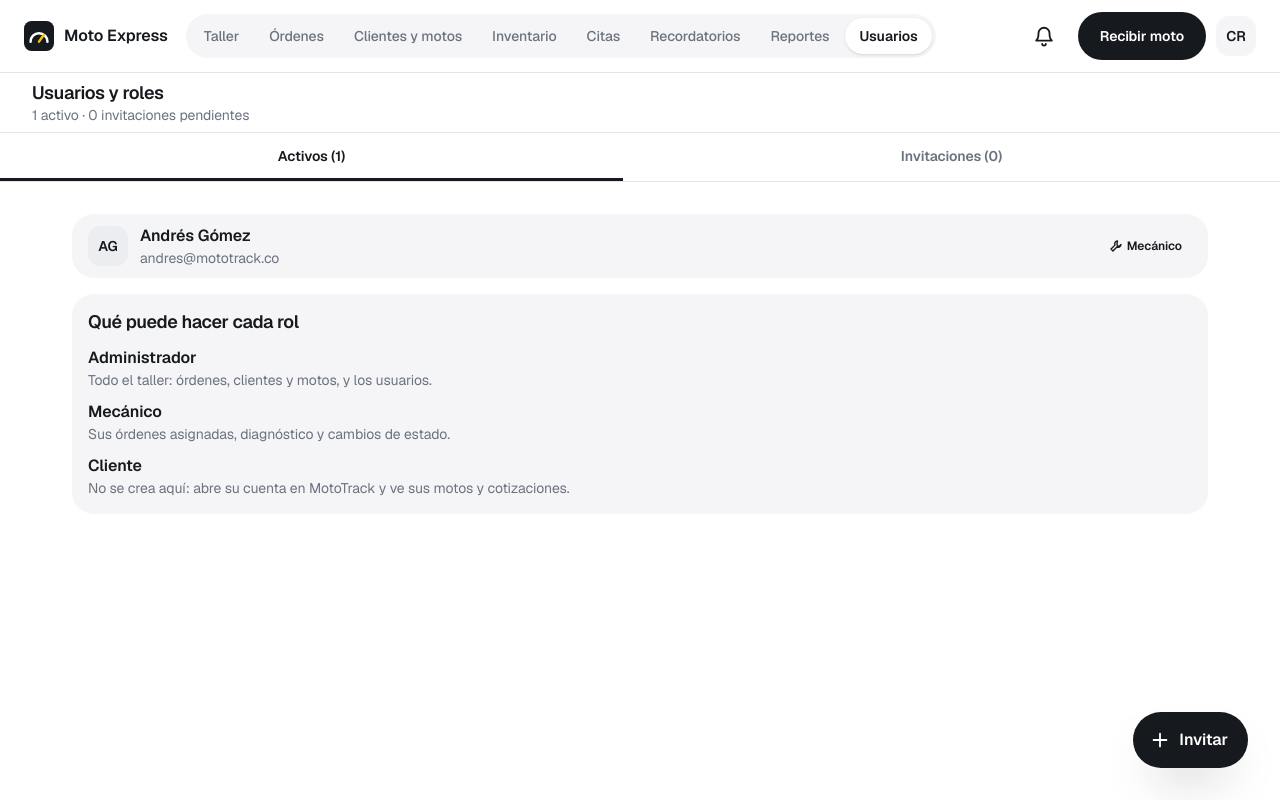
Test: HU-86 · Restablecer la contraseña de un mecánico › confirma, muestra la clave temporal y el enlace de WhatsApp con el mensaje
This screenshot has width=1280, height=800.
Click the button with aria-label "Opciones de Andrés Gómez": (108, 246) [72,214,1208,278]
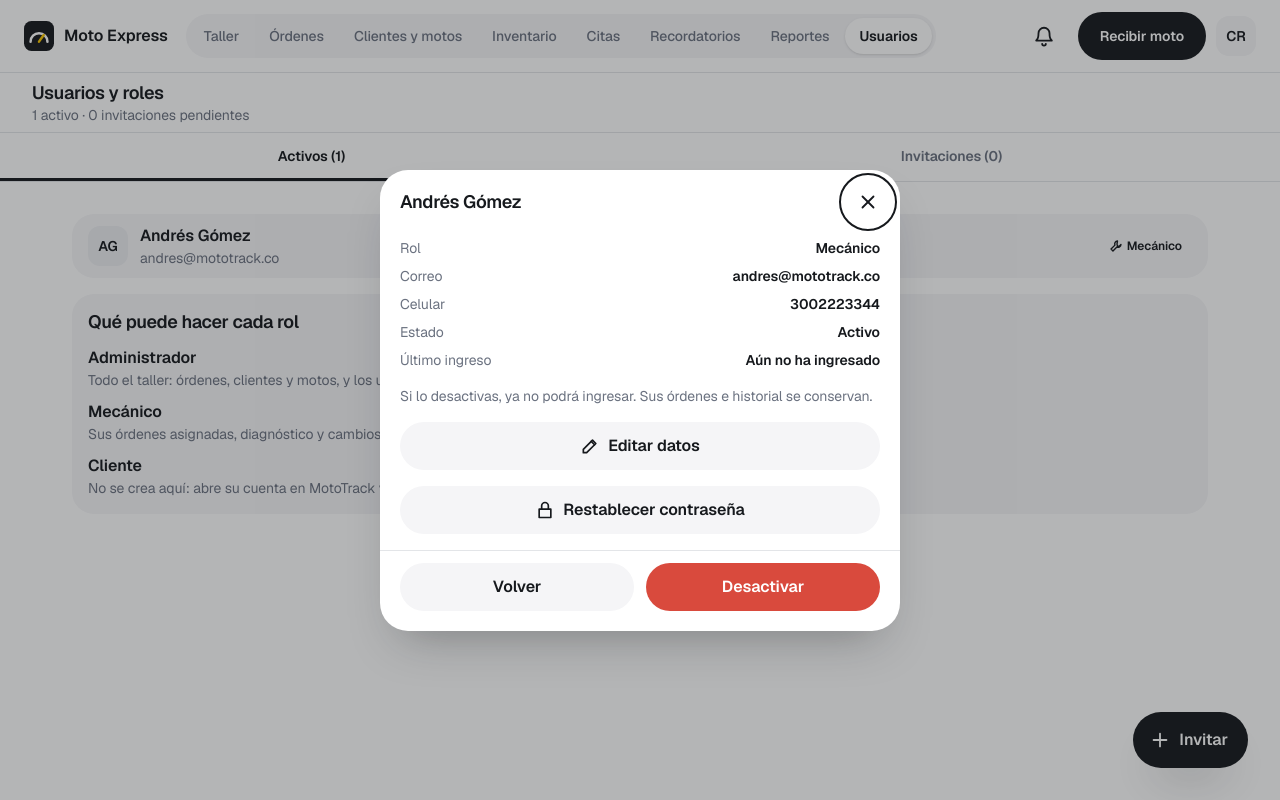
Click the button "Restablecer contraseña": (640, 510) [400,486,880,534]
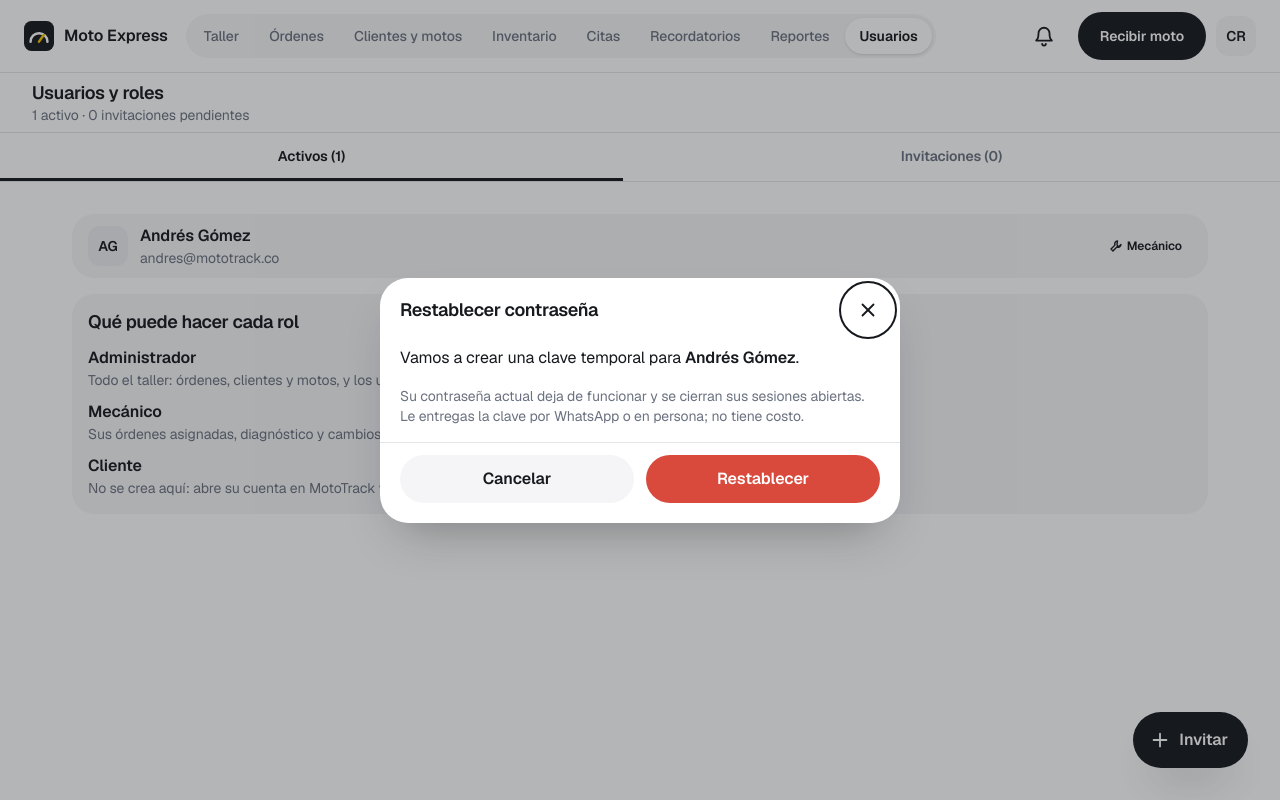
Click the button "Restablecer": (763, 478) [646,454,880,502]
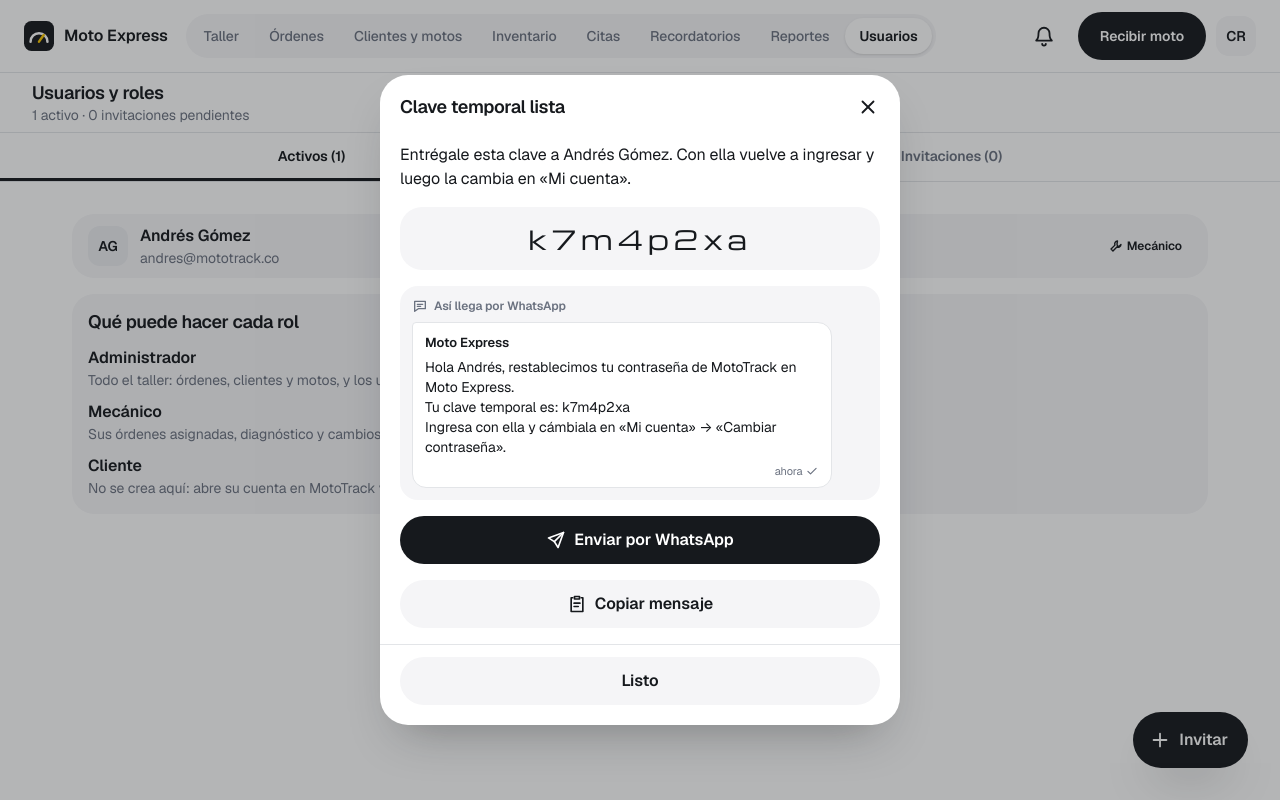
Check: the text "k7m4p2xa" is shown, box [400,207,880,270]
